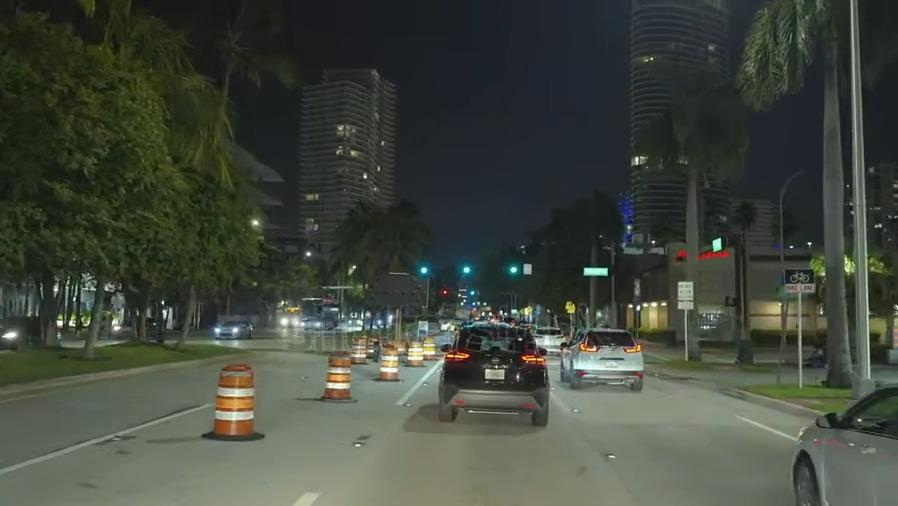bus: (298, 295, 340, 332)
car: (793, 381, 898, 506), (440, 323, 546, 429), (559, 327, 645, 392), (0, 313, 69, 355), (110, 313, 160, 342), (533, 319, 562, 353), (212, 317, 254, 339), (280, 308, 298, 331), (346, 315, 363, 327)
cone: (213, 362, 254, 437), (323, 347, 350, 397), (377, 343, 399, 379), (350, 335, 364, 363), (406, 339, 420, 365), (425, 338, 435, 359)
pedestrian: (640, 341, 725, 363)
traffic light: (497, 256, 527, 282), (454, 260, 480, 281), (414, 260, 434, 279)
wheel: (788, 455, 817, 504)
